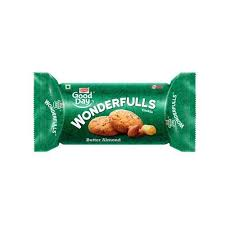gooday-small: (35, 80, 196, 144)
